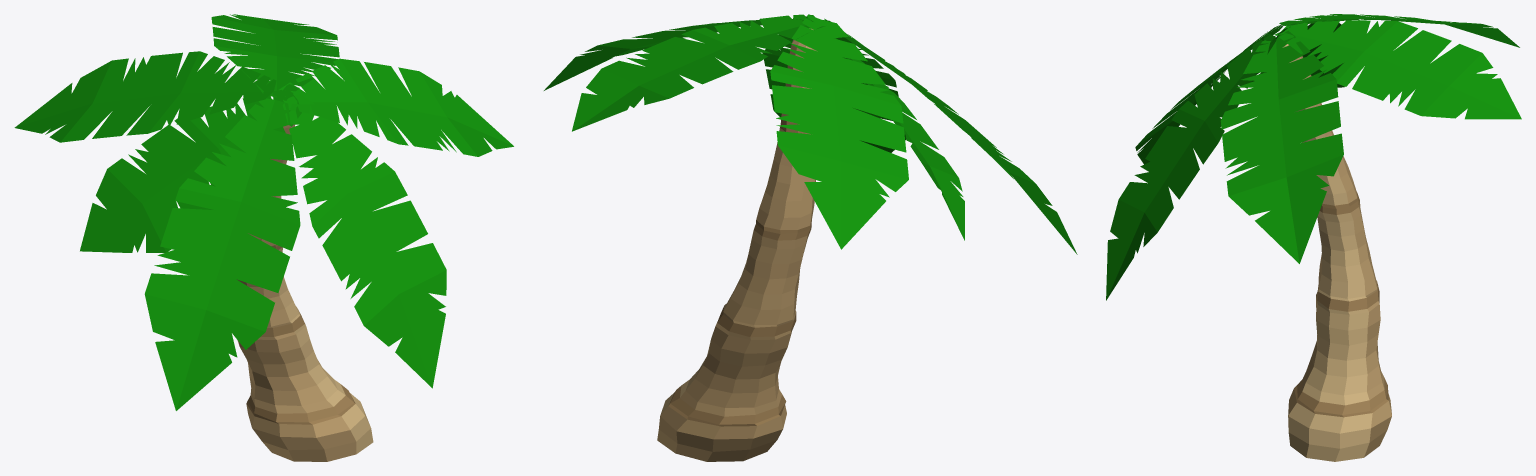
The model's file is PalmTreeWindHook.glb.
3 views of the same model, side by side, from view 1: azimuth 30°, elevation 25°; view 2: azimuth 150°, elevation 25°; view 3: azimuth 270°, elevation 25° (orthographic). The views are drawn at different scales.
Visible parts, largest first — view 1: PalmExtraShape_wind_hook; view 2: PalmExtraShape_wind_hook; view 3: PalmExtraShape_wind_hook.
Part boxes in pixels (x1,y1,x2,y2): PalmExtraShape_wind_hook: (14,14,513,461); PalmExtraShape_wind_hook: (544,14,1077,461); PalmExtraShape_wind_hook: (1106,14,1521,461).
Bounding box in the file's own units: 4.92 × 4.42 × 4.33.
